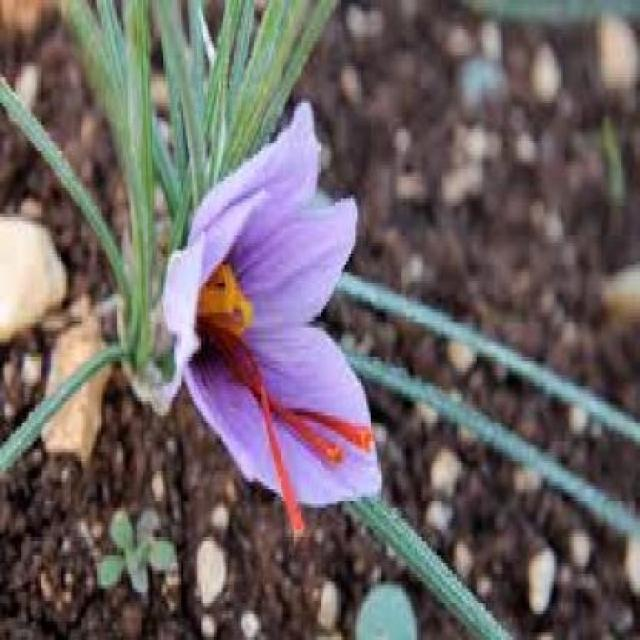saffron open: (152, 104, 380, 505)
